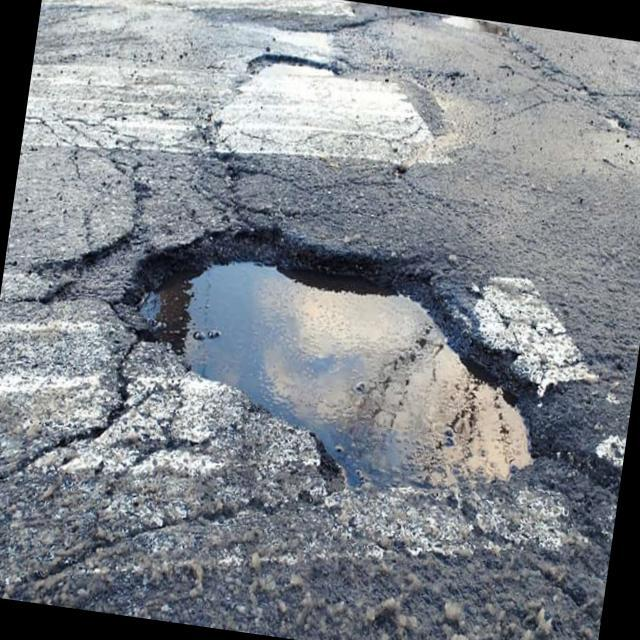Pothole: (84, 192, 576, 556)
